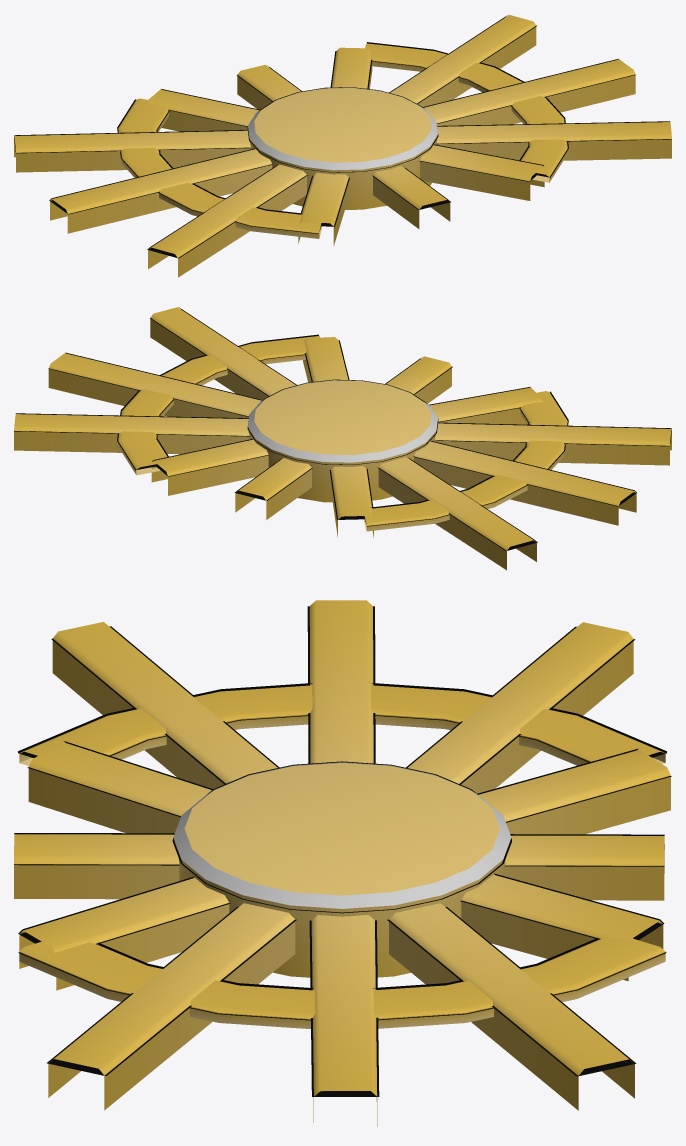
File: Rooms_Paradise_SolarPattern_Art.fbx
3 renders of one model, top to bottom at view 1: azimuth 30°, elevation 25°; view 2: azimuth 150°, elevation 25°; view 3: azimuth 270°, elevation 25°, orthographic. The views are drawn at different scales.
Visible parts, largest first — view 1: Rooms_Paradise_SolarPattern_Art, Rooms_Paradise_SolarPattern_Outline, Rooms_Paradise_SolarPattern_Shadows; view 2: Rooms_Paradise_SolarPattern_Art, Rooms_Paradise_SolarPattern_Outline, Rooms_Paradise_SolarPattern_Shadows; view 3: Rooms_Paradise_SolarPattern_Art, Rooms_Paradise_SolarPattern_Outline, Rooms_Paradise_SolarPattern_Shadows.
Part boxes in pixels (x1,y1,x2,y2): Rooms_Paradise_SolarPattern_Art: (14, 15, 671, 277); Rooms_Paradise_SolarPattern_Outline: (14, 15, 671, 258); Rooms_Paradise_SolarPattern_Shadows: (248, 87, 437, 170); Rooms_Paradise_SolarPattern_Art: (14, 307, 671, 570); Rooms_Paradise_SolarPattern_Outline: (14, 307, 671, 550); Rooms_Paradise_SolarPattern_Shadows: (248, 380, 437, 462); Rooms_Paradise_SolarPattern_Art: (14, 600, 670, 1126); Rooms_Paradise_SolarPattern_Outline: (14, 606, 671, 1096); Rooms_Paradise_SolarPattern_Shadows: (173, 762, 511, 908).
Bounding box in the file's own units: 963 × 73.4 × 546.
